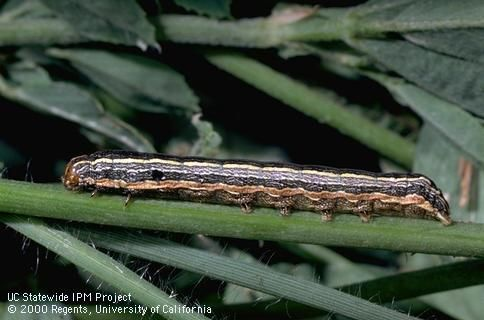Armyworm: (51, 140, 465, 236)
